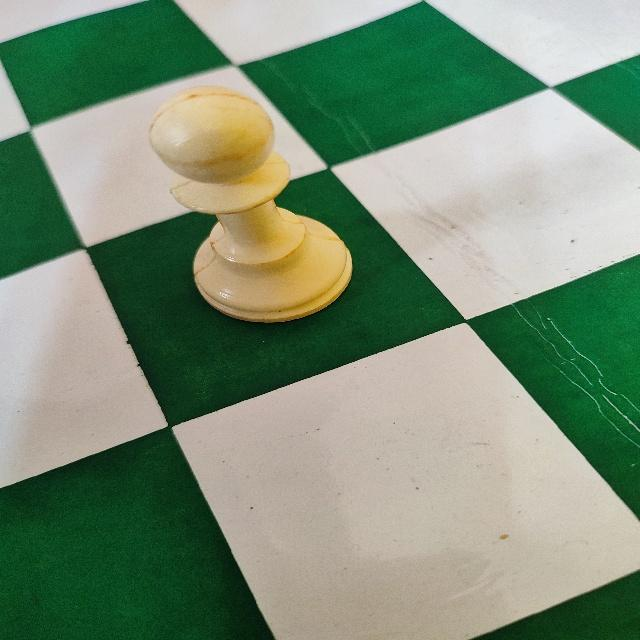Pawn: (146, 84, 357, 327)
